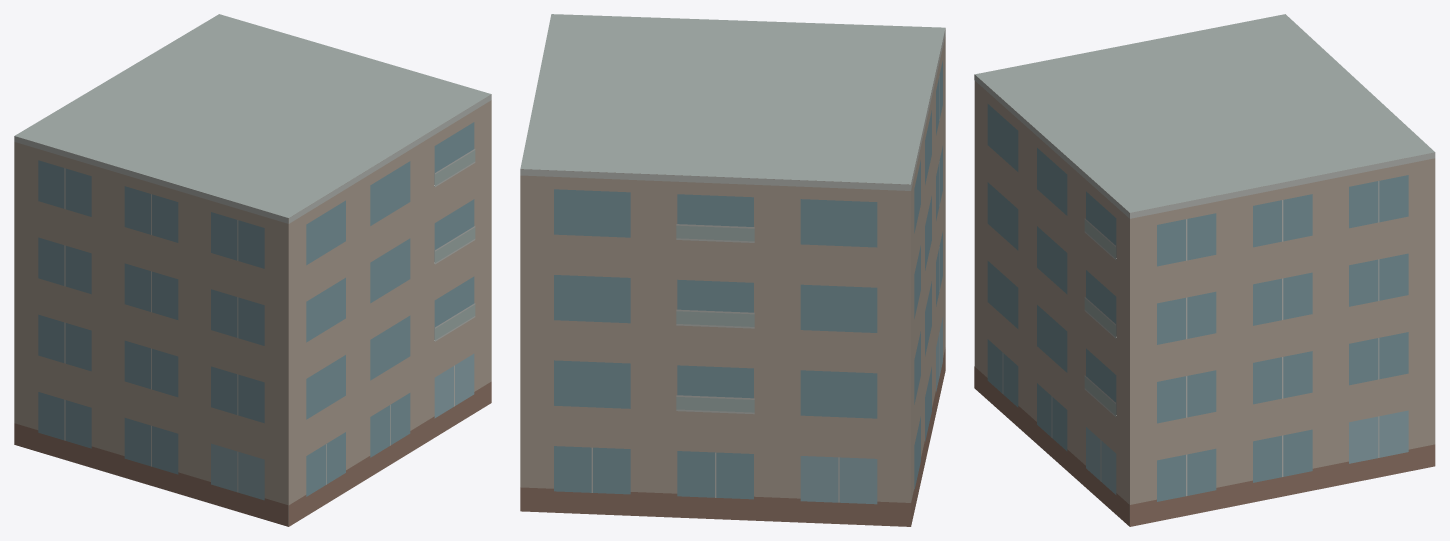
Rendered from survey-upis-32962231.glb.
The picture shows the model from 3 angles, left to right: view 1: azimuth 30°, elevation 25°; view 2: azimuth 150°, elevation 25°; view 3: azimuth 270°, elevation 25°; orthographic projection. The views are drawn at different scales.
Parts seen in each view (by area): view 1: survey-upis-32962231.tmp; view 2: survey-upis-32962231.tmp; view 3: survey-upis-32962231.tmp.
Boxes of the visible parts, left/top/right/bottom form: survey-upis-32962231.tmp: left=14, top=14, right=491, bottom=526; survey-upis-32962231.tmp: left=520, top=14, right=945, bottom=526; survey-upis-32962231.tmp: left=974, top=14, right=1435, bottom=526.
Size of the model in its own units: 17.4 by 12.8 by 17.03.
